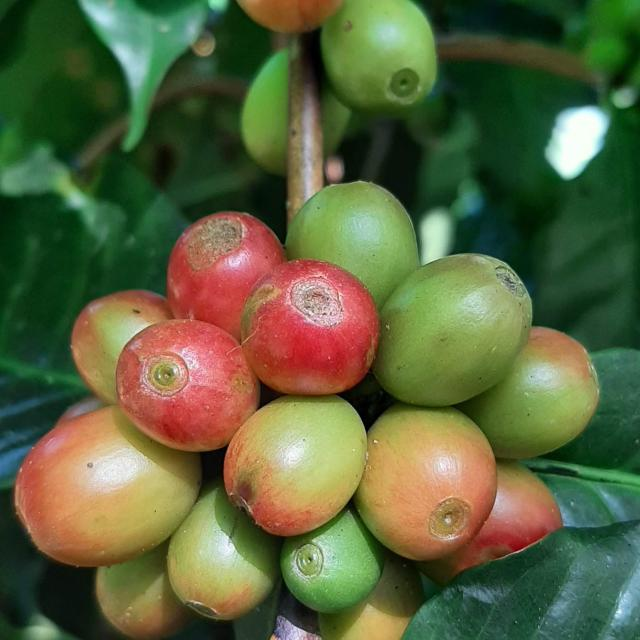green: (373, 254, 533, 407), (286, 181, 419, 309), (321, 0, 438, 111), (280, 506, 385, 614), (241, 49, 289, 175), (321, 84, 352, 156)
red: (241, 259, 380, 396), (167, 212, 286, 340)
yellow: (14, 406, 201, 568), (354, 403, 498, 562), (224, 395, 367, 537), (115, 319, 259, 452), (458, 327, 600, 460), (419, 460, 563, 587), (167, 480, 281, 621), (70, 290, 173, 405), (95, 542, 194, 640), (319, 554, 425, 640), (237, 0, 343, 33)
